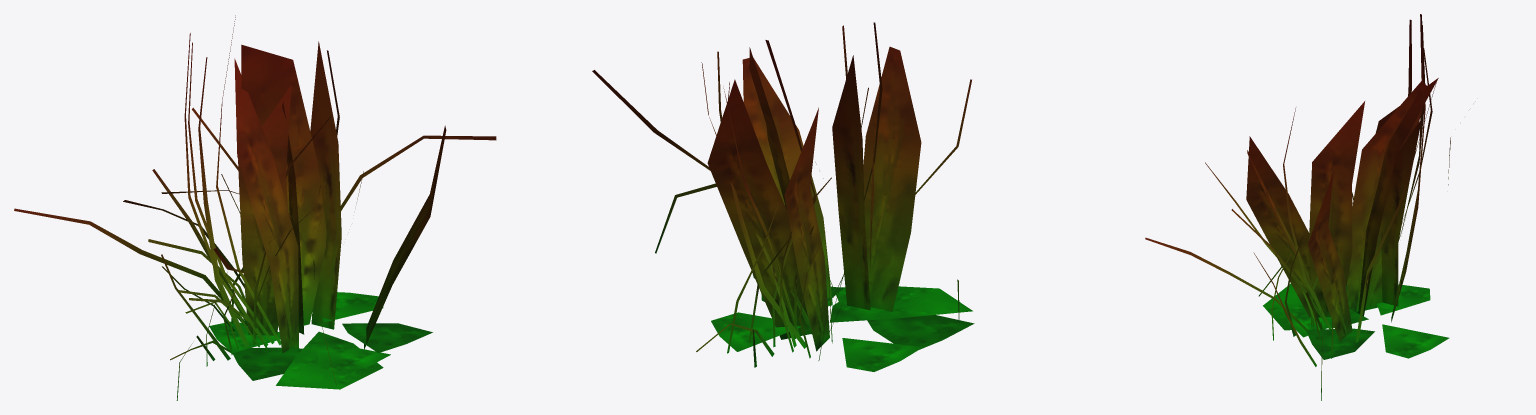
Rendered from Thatching Grass_LOD1_Var8_uddmcgbia.glb.
3 views of the same model, side by side, from view 1: azimuth 30°, elevation 25°; view 2: azimuth 150°, elevation 25°; view 3: azimuth 270°, elevation 25° (orthographic). The views are drawn at different scales.
Visible parts, largest first — view 1: _2b60_Var8_LOD1; view 2: _2b60_Var8_LOD1; view 3: _2b60_Var8_LOD1.
Boxes of the visible parts, x1,y1,x2,y2 form: _2b60_Var8_LOD1: [14, 15, 496, 400]; _2b60_Var8_LOD1: [592, 22, 974, 371]; _2b60_Var8_LOD1: [1145, 14, 1450, 400].
Size of the model in its own units: 0.2526 by 0.193 by 0.2192.
Materials: 1 (1 with a texture image).
